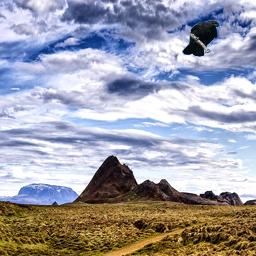Crow: (182, 20, 222, 57)
